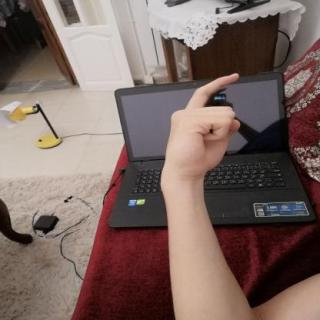RAA: (154, 67, 248, 181)
